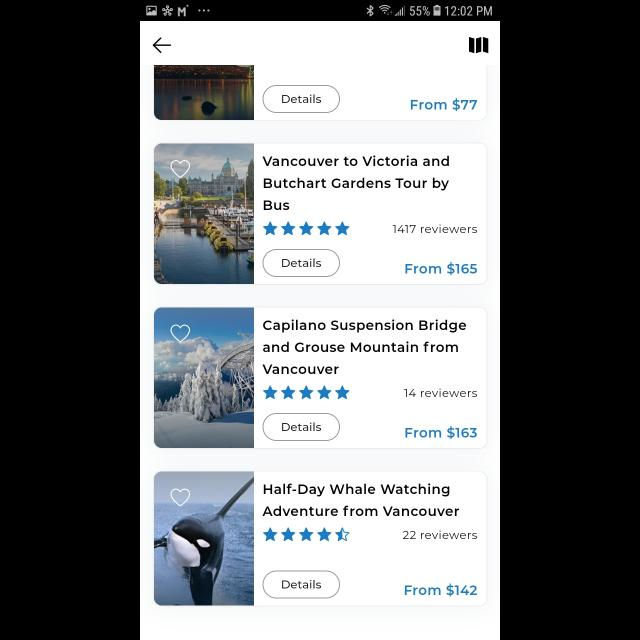icon: (262, 222, 350, 236), (262, 385, 350, 399), (262, 527, 350, 541), (171, 160, 191, 180), (171, 488, 191, 508), (171, 325, 191, 343), (469, 37, 489, 54), (152, 38, 172, 54)
image: (154, 143, 254, 284), (154, 308, 254, 448), (154, 471, 254, 605), (154, 66, 254, 120)
text: (262, 320, 466, 374), (262, 156, 450, 210), (262, 484, 460, 516), (405, 262, 477, 276), (404, 583, 476, 597), (410, 98, 478, 112), (405, 426, 477, 439), (392, 224, 478, 233), (404, 388, 478, 398), (403, 530, 477, 538)
textbutton: (263, 85, 341, 113), (263, 249, 341, 277), (262, 413, 340, 441), (263, 571, 341, 599)
uppertaskbar: (140, 1, 500, 22)
